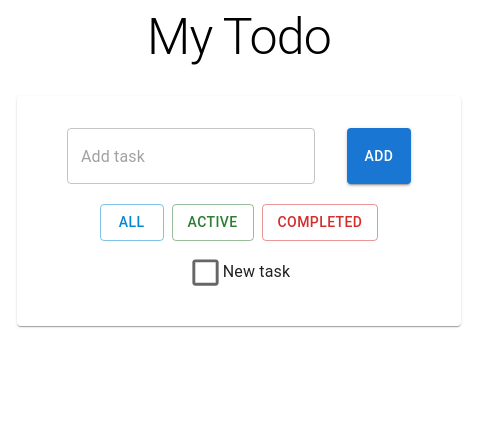
Scenario: filters todo items when filter button is clicked
The width and height of the screenshot is (479, 431).
Type "Task 1" into the field with placeholder "Add task" at (191, 156), box [67,128,315,184]
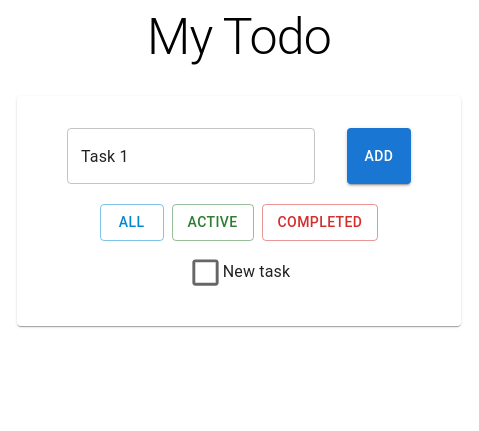
Click the button "Add" at (379, 156), box [347,128,411,184]
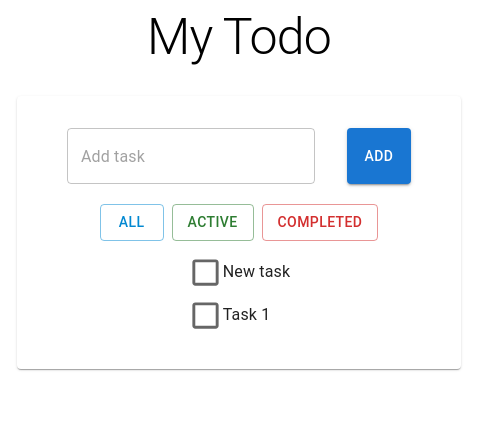
// Добавляем вторую задачу
Type "Task 2" into the field with placeholder "Add task" at (191, 156), box [67,128,315,184]
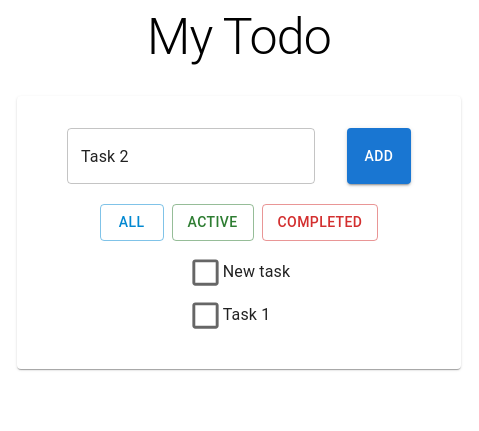
Click the button "Add" at (379, 156), box [347,128,411,184]
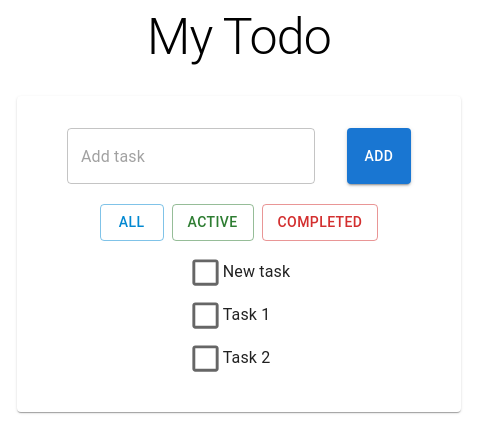
Expected: the text "Task 1" is shown
Expected: the text "Task 2" is shown, [223,346,270,370]
Click the text "Task 1" at (247, 315), box [223,303,270,327]
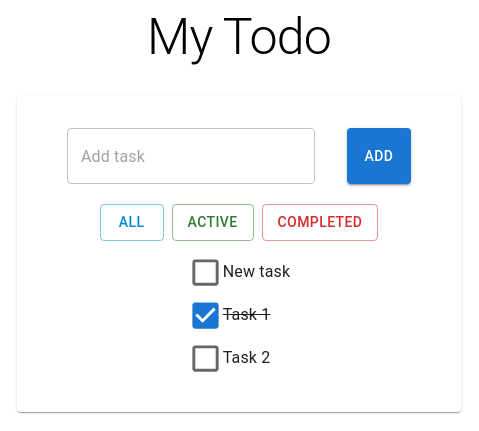
Click the button "Active" at (213, 223), box [172,204,254,241]
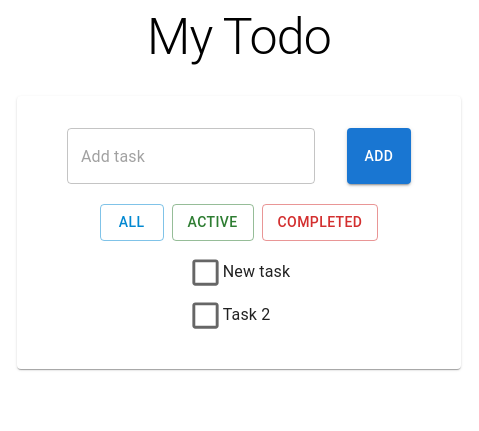
Expected: the text "Task 2" is shown, [223,303,270,327]
Expected: the text "Task 1" is gone
